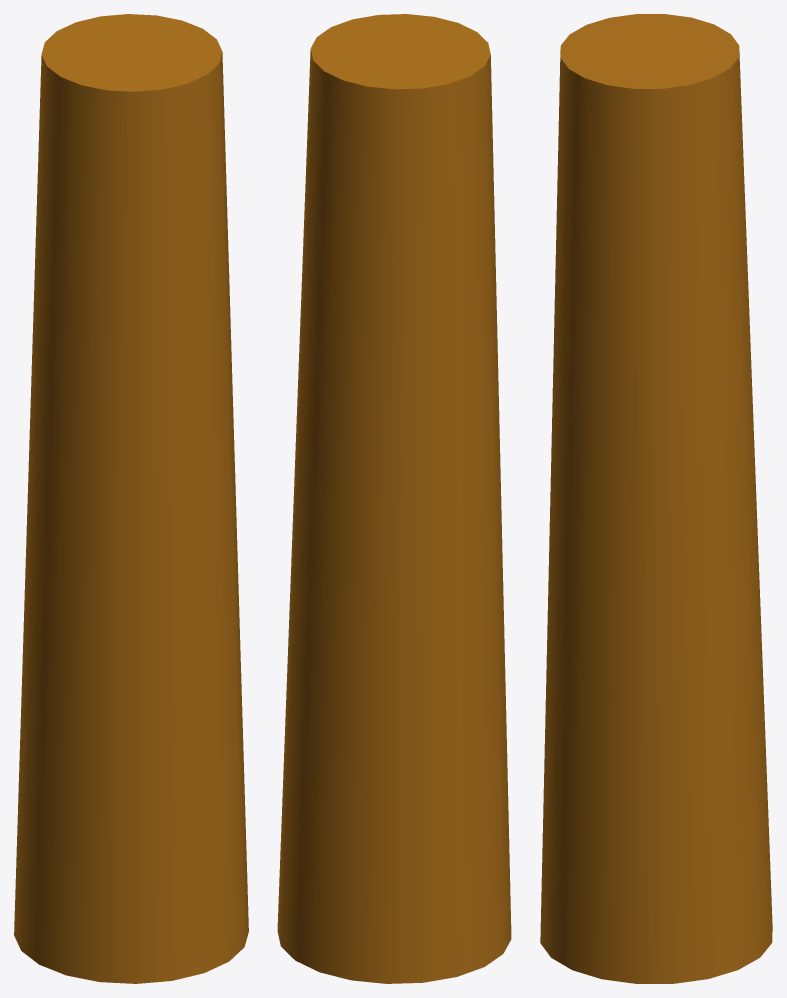
Rendered from Pillar.fbx.
3 renders of one model, left to right at view 1: azimuth 30°, elevation 25°; view 2: azimuth 150°, elevation 25°; view 3: azimuth 270°, elevation 25°, orthographic.
Parts seen in each view (by area): view 1: Pillar; view 2: Pillar; view 3: Pillar.
Boxes of the visible parts, x1=… form: Pillar: x1=14, y1=14, x2=248, y2=983; Pillar: x1=277, y1=14, x2=511, y2=983; Pillar: x1=540, y1=14, x2=772, y2=983.
Bounding box in the file's own units: 0.6769 × 2.84 × 0.6769.
